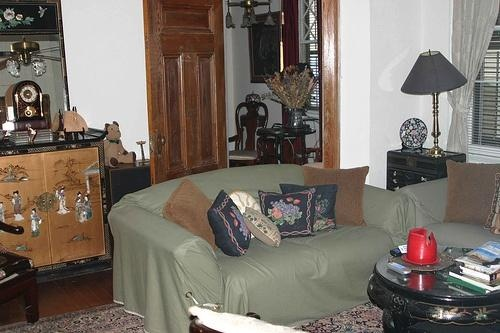chair: (227, 101, 270, 168)
sofa: (105, 162, 420, 333)
